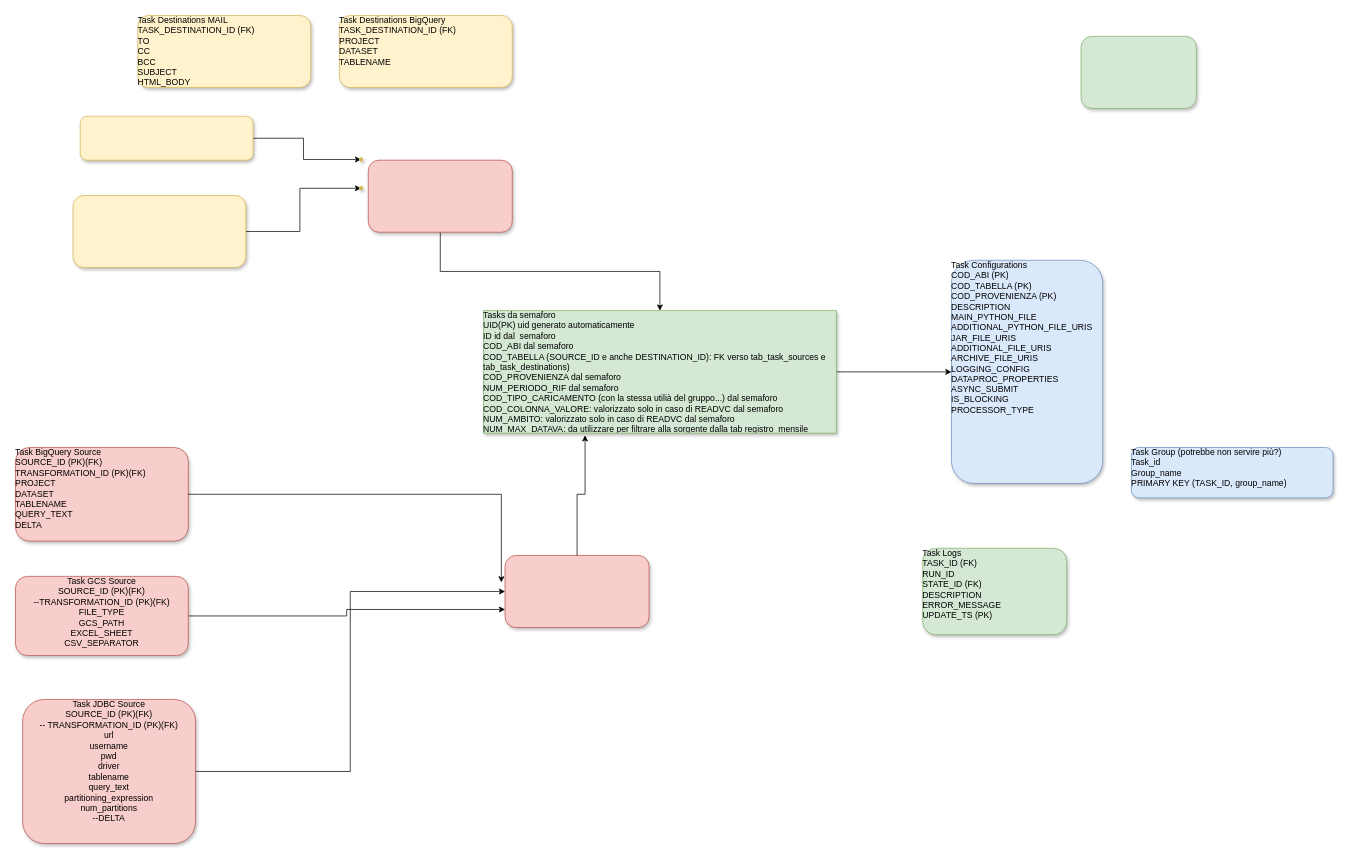
Image size: 1350x861. Some labels were removed from this diagram. Each missing label, with the centre of its shape:
Configurations CONFIG_NAME (PK) CONFIG_VALUE: point (1139, 73)
Task Destinations GCS TASK_DESTINATION_ID (FK) FORMAT_FILE GCS_PATH: point (167, 139)
Task Destinations ID (PK) SOURCE_ID (FK) TYPE_OF_DESTINATION (JDBC, File): point (441, 197)
Task Destinations JDBC DESTINATION_ID (PK)(FK) HOST PORT USERNAME PWD DRIVER: point (159, 232)
Task Sources ID (PK) SOURCE_ID (FK) TYPE_OF_SOURCE (BigQuery, JDBC, File): point (577, 592)
